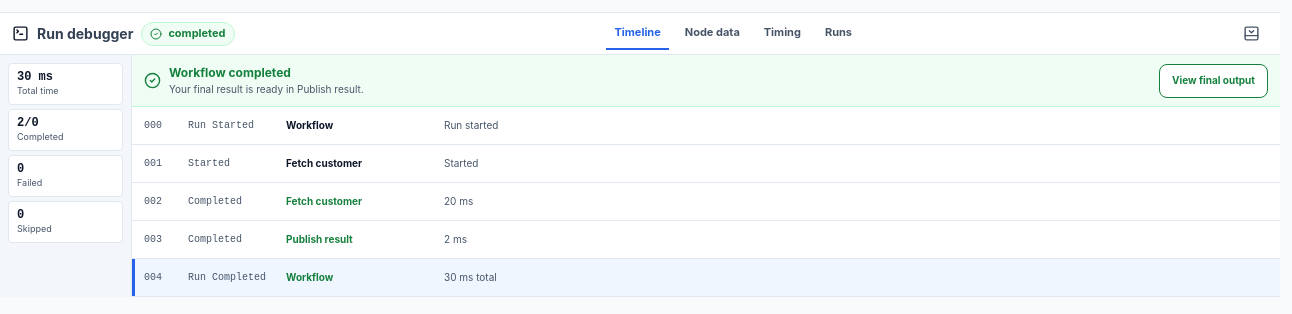
DebuggerPanel › turns a completed run into a clear final-output action
Click the button "View final output".
click(1214, 80)  # box x1=1159 y1=64 x2=1268 y2=98
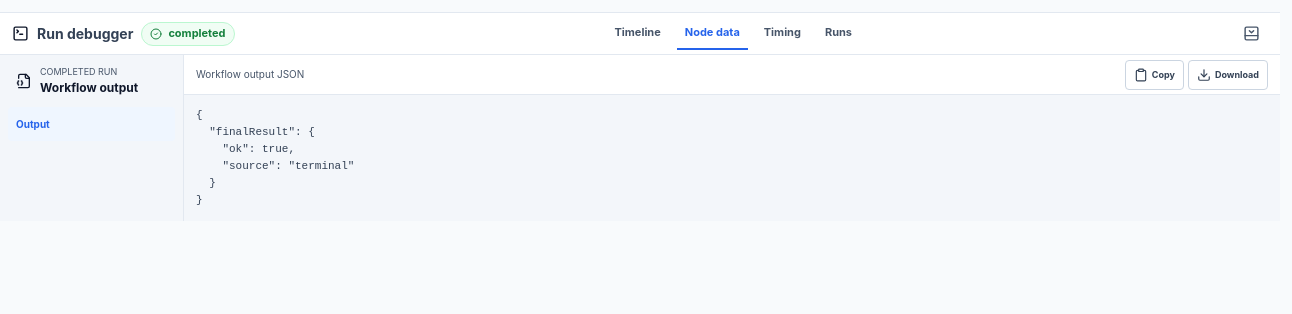
Now the text "{ \"finalResult\": { \"ok\": true, \"source\": \"terminal\" } }" is shown, box x1=196 y1=109 x2=354 y2=206
